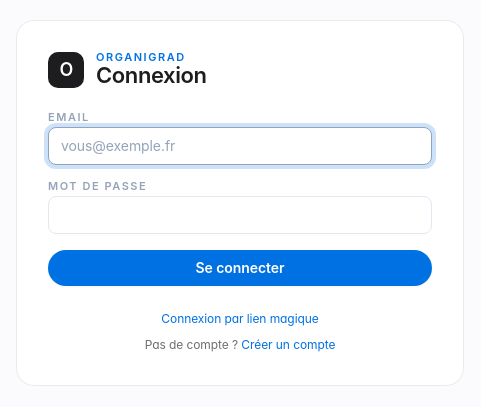
Test: AuthScreen — la bonne méthode selon le mode › inscription : signUp, puis consigne de vérifier la boîte mail
Click the button "Créer un compte": (288, 345) [241,336,335,354]
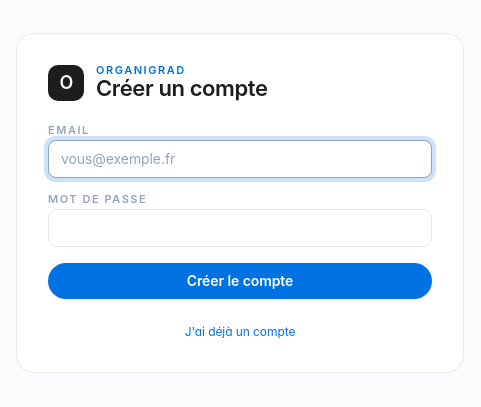
In the field labelled "Email": (240, 159) [48,140,432,178], type "camille@test.fr"
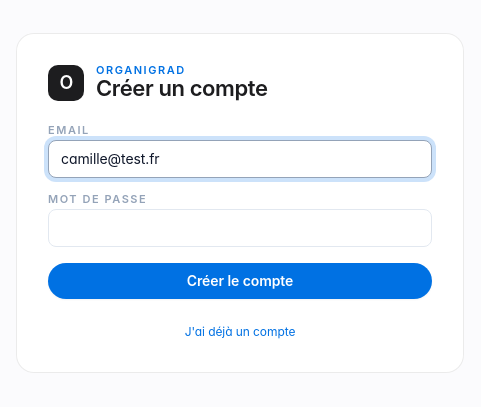
In the password field labelled "Mot de passe": (240, 228) [48,209,432,247], type "motdepasse1"
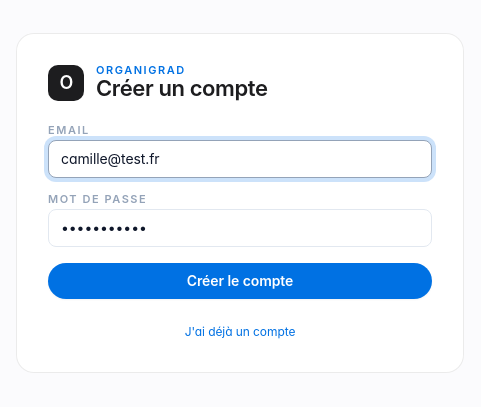
Submit the form "Email Mot de passe Créer le compte", box [48,125,432,299]
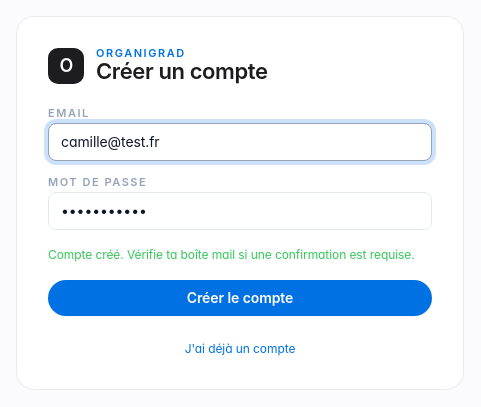
Expected: the text "Compte créé" is shown, [48,247,415,262]
